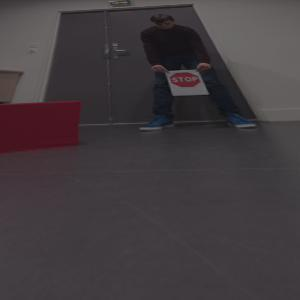stop: (170, 71, 201, 88)
